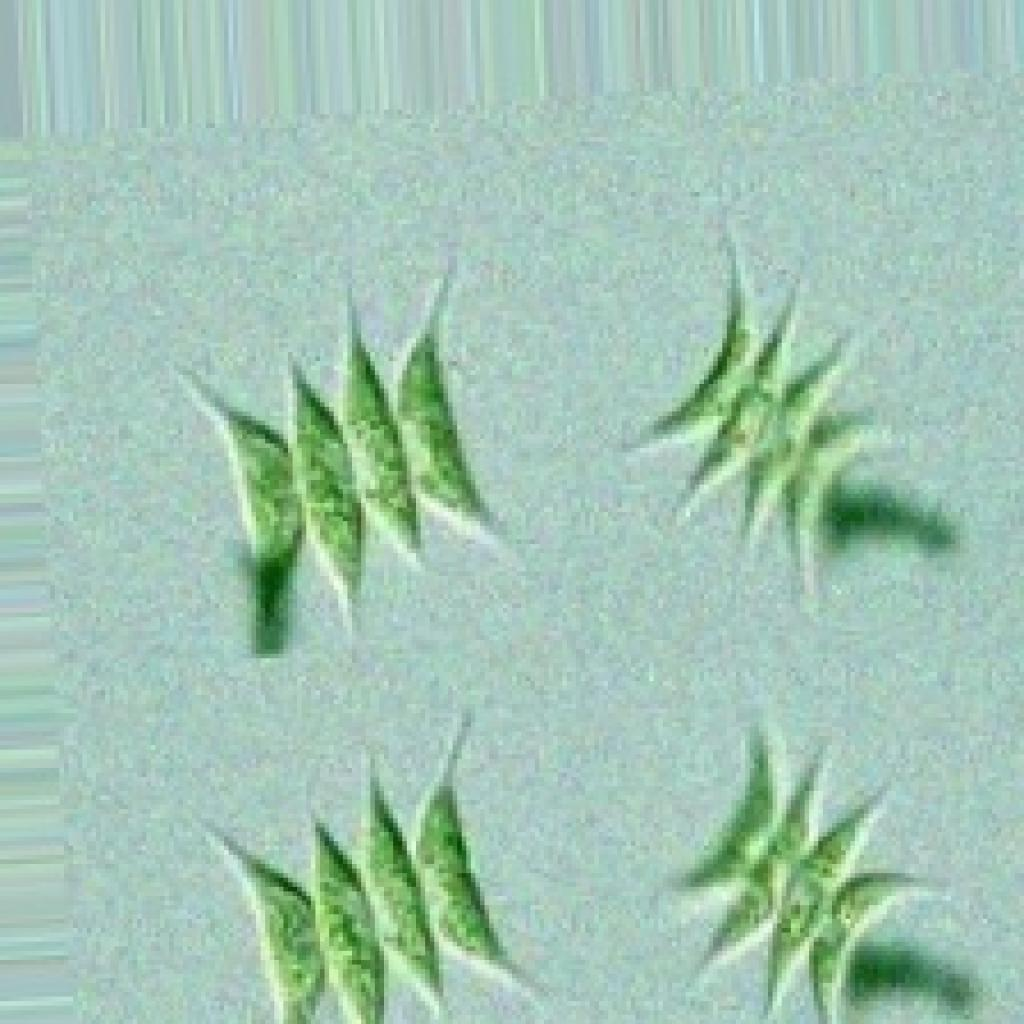Microalgae: (134, 251, 555, 618), (602, 227, 964, 619), (578, 709, 1024, 1024), (198, 736, 536, 1024)
